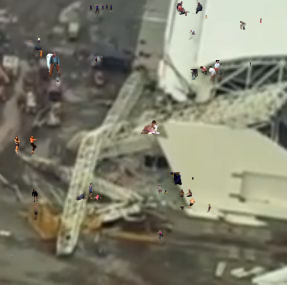Human: (45, 51, 61, 82), (180, 198, 211, 214), (75, 183, 102, 201), (199, 60, 222, 81), (14, 135, 37, 154), (176, 0, 203, 16), (29, 36, 43, 57), (141, 120, 160, 134), (89, 4, 113, 14), (170, 172, 182, 186), (158, 184, 168, 194), (180, 189, 192, 197), (94, 54, 103, 64), (190, 69, 198, 80), (188, 30, 196, 40), (32, 189, 38, 202), (156, 230, 163, 241), (34, 203, 38, 220), (240, 21, 246, 30), (204, 15, 208, 19), (260, 18, 262, 23), (57, 112, 59, 116), (28, 155, 32, 157), (192, 177, 194, 180), (250, 62, 251, 66), (11, 255, 12, 258)
